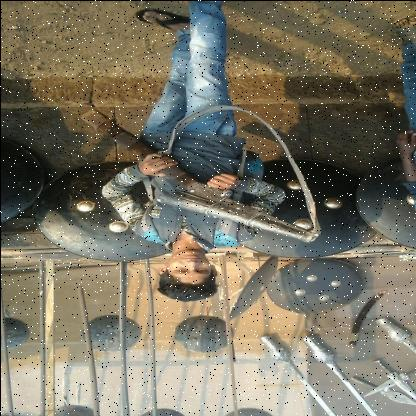rifle: (78, 107, 324, 244)
